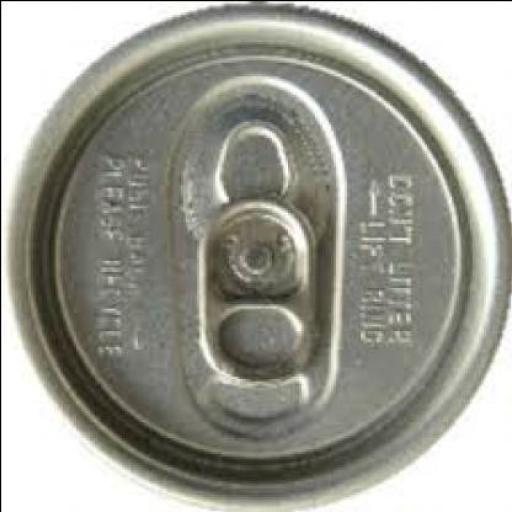metal: (2, 2, 511, 511)
